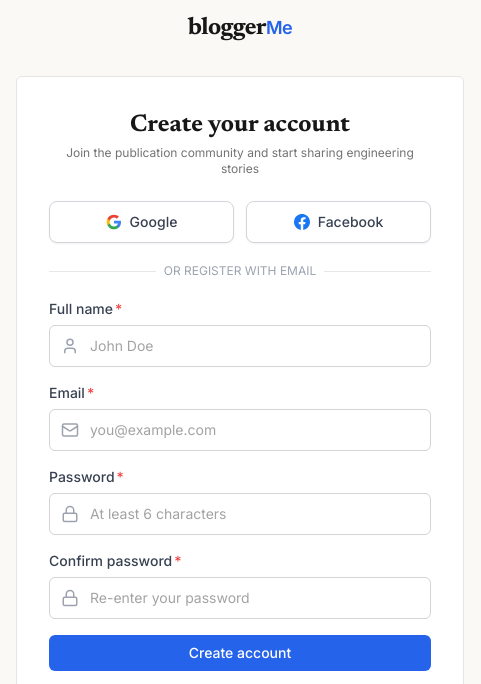
Test: Frontend React Authentication Tests › RegisterPage Component › displays validation error if password is less than 6 characters
Type "Test User" into the field with placeholder "John Doe".
click(240, 346); type("Test User")  # box [49, 325, 431, 367]
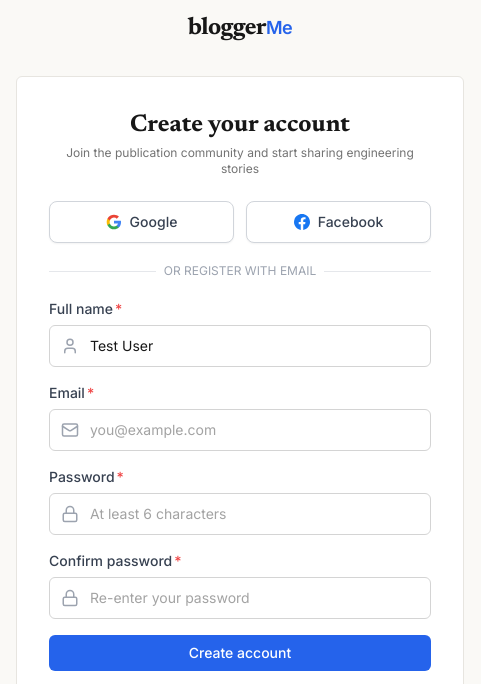
Type "test@example.com" into the field with placeholder "you@example.com".
click(240, 430); type("test@example.com")  # box [49, 409, 431, 451]
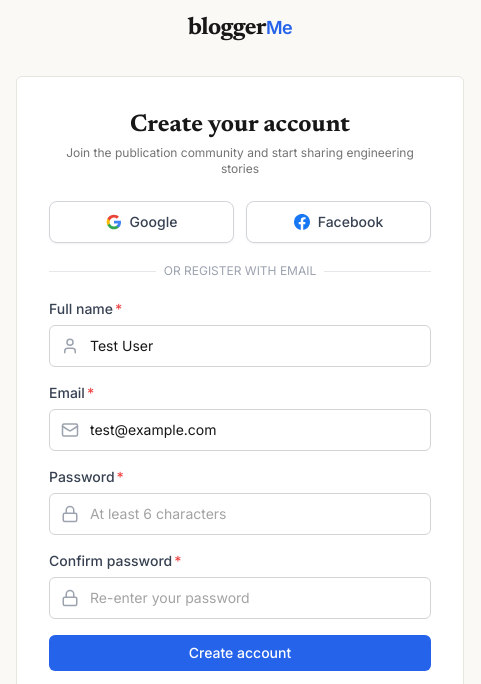
Type "123" into the password field with placeholder "At least 6 characters".
click(240, 514); type("123")  # box [49, 493, 431, 535]
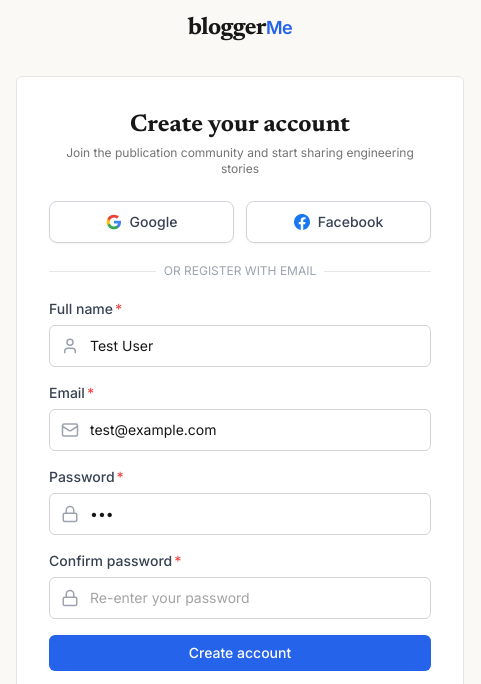
Type "123" into the password field with placeholder "Re-enter your password".
click(240, 598); type("123")  # box [49, 577, 431, 619]
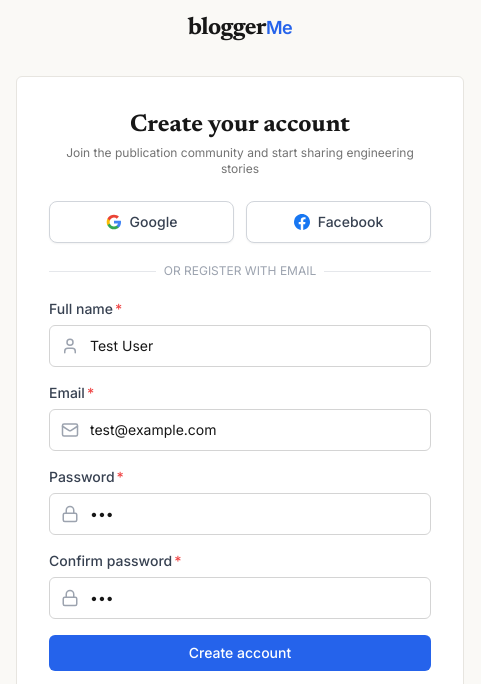
Click the button "Create account".
click(240, 653)  # box [49, 635, 431, 671]
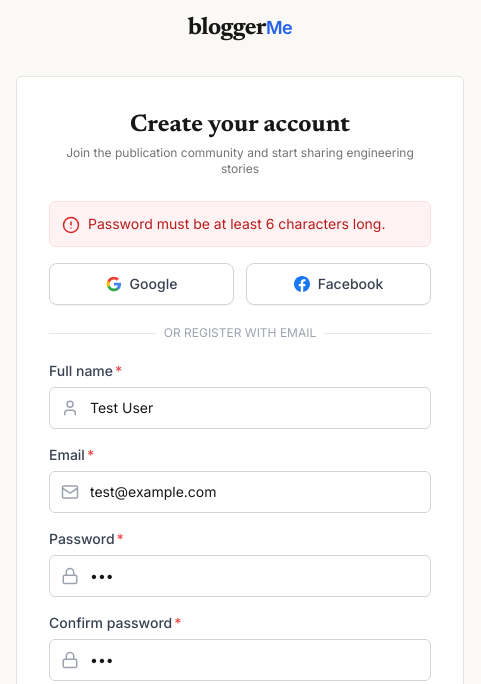
Result: the text "Password must be at least 6 characters long." is shown at [88, 214, 386, 234]
